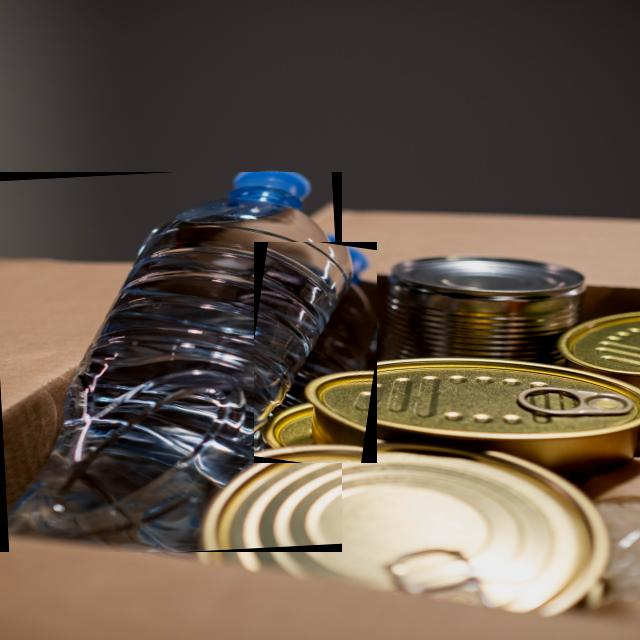Bottle: (0, 172, 340, 552), (282, 243, 375, 417)
